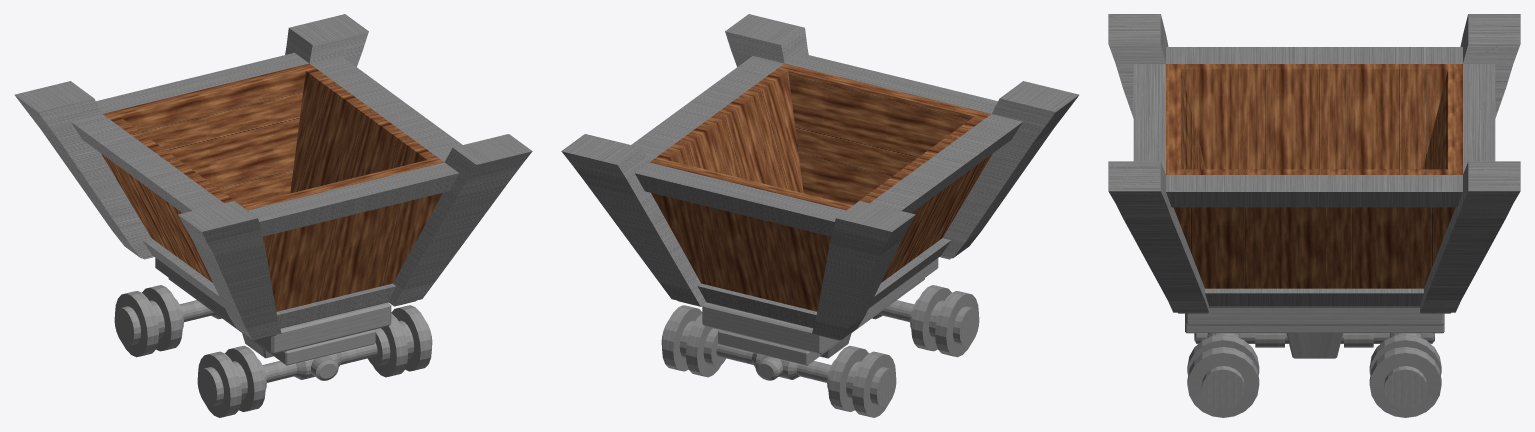
File: Mine_Cart_1.2_1.2_0.8.fbx
The picture shows the model from 3 angles, left to right: view 1: azimuth 30°, elevation 25°; view 2: azimuth 150°, elevation 25°; view 3: azimuth 270°, elevation 25°; orthographic projection. The views are drawn at different scales.
Visible parts, largest first — view 1: Mine_Cart_Body, Mine_Cart_Wheel1 (×2), Mine_Car_Base_Top, Mine_Cart_Wheel2, Mine_Suspension_Front (×2), Mine_Cart_Base, Mine_Suspension_Base; view 2: Mine_Cart_Body, Mine_Cart_Wheel1 (×2), Mine_Car_Base_Top, Mine_Cart_Wheel2, Mine_Suspension_Front (×2), Mine_Cart_Base, Mine_Suspension_Base; view 3: Mine_Cart_Body, Mine_Cart_Wheel2 (×2), Mine_Car_Base_Top, Mine_Cart_Base, Mine_Suspension_Base.
Boxes of the visible parts, x1,y1,x2,y2 form: Mine_Cart_Body: (14, 14, 532, 340); Mine_Cart_Wheel1 (×2): (114, 285, 266, 417); Mine_Car_Base_Top: (155, 258, 391, 353); Mine_Cart_Wheel2: (367, 305, 432, 377); Mine_Suspension_Front (×2): (180, 300, 377, 382); Mine_Cart_Base: (168, 278, 375, 365); Mine_Suspension_Base: (311, 356, 338, 380); Mine_Cart_Body: (561, 14, 1079, 340); Mine_Cart_Wheel1 (×2): (827, 285, 979, 417); Mine_Car_Base_Top: (702, 258, 938, 354); Mine_Cart_Wheel2: (661, 305, 726, 377); Mine_Suspension_Front (×2): (716, 300, 913, 382); Mine_Cart_Base: (718, 278, 924, 365); Mine_Suspension_Base: (755, 356, 782, 380); Mine_Cart_Body: (1108, 14, 1520, 313); Mine_Cart_Wheel2 (×2): (1187, 334, 1441, 417); Mine_Car_Base_Top: (1185, 307, 1444, 325); Mine_Cart_Base: (1185, 324, 1444, 358); Mine_Suspension_Base: (1194, 333, 1434, 347).
Bounding box in the file's own units: 116 × 79.51 × 114.
Materials: 4 (3 with a texture image).
